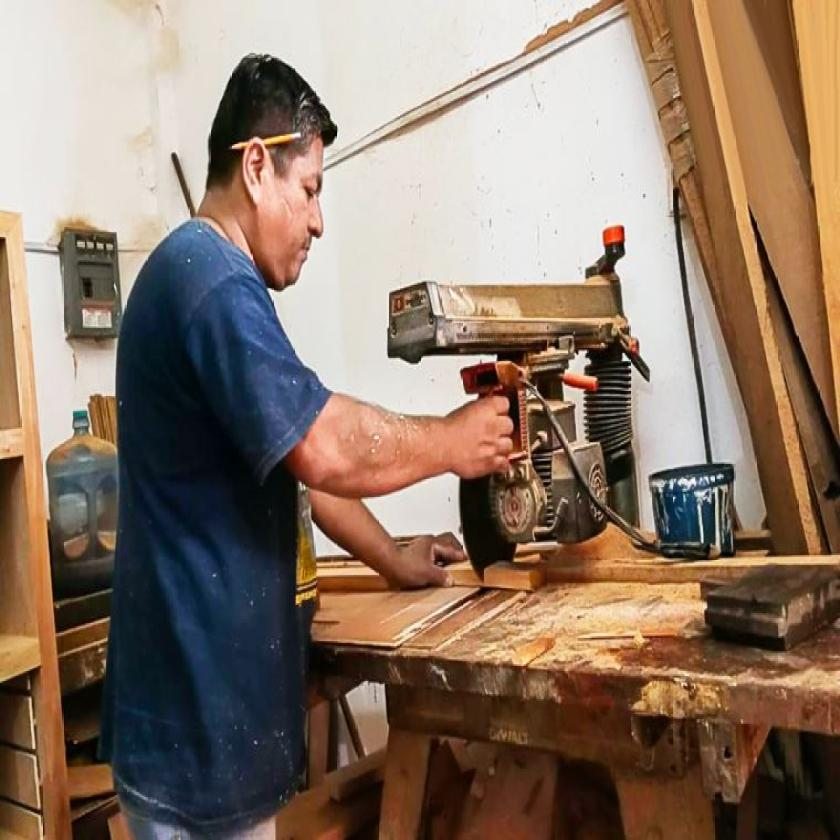Sin_casco: (195, 45, 344, 294)
